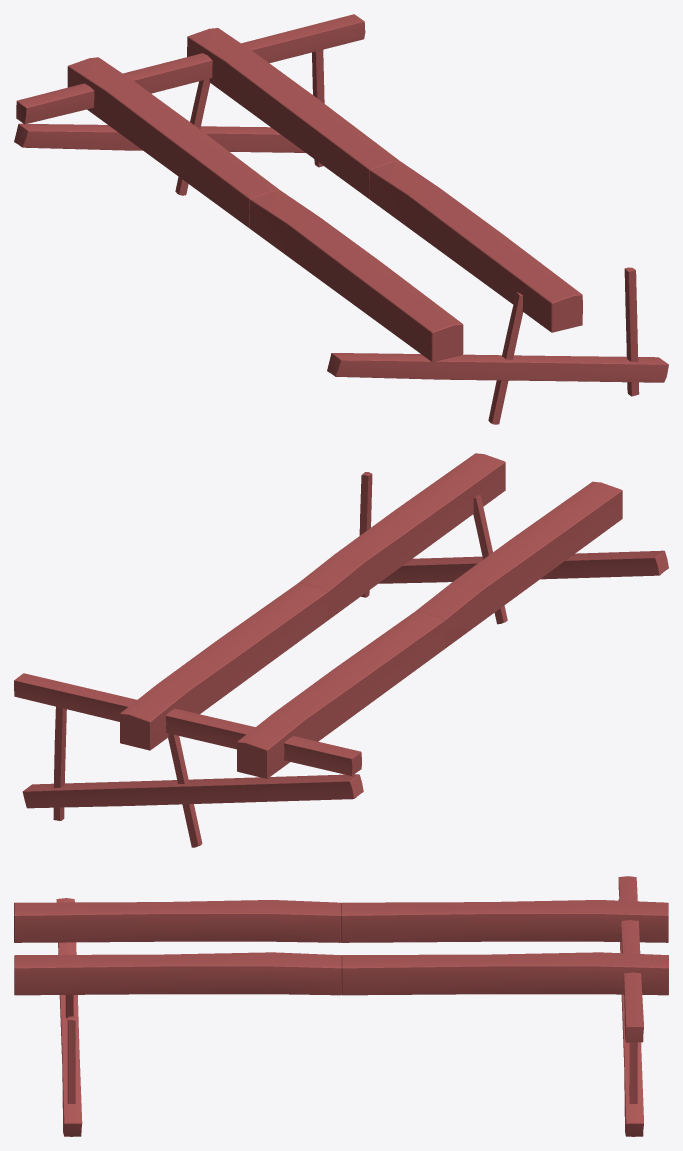
The model's file is Beam_Structure_15B_Lod0.fbx.
3 renders of one model, top to bottom at view 1: azimuth 30°, elevation 25°; view 2: azimuth 150°, elevation 25°; view 3: azimuth 270°, elevation 25°, orthographic. The views are drawn at different scales.
Parts seen in each view (by area): view 1: Beam_Structure_15B_Lod0; view 2: Beam_Structure_15B_Lod0; view 3: Beam_Structure_15B_Lod0.
Boxes of the visible parts, left/top/right/bottom form: Beam_Structure_15B_Lod0: left=14, top=14, right=668, bottom=424; Beam_Structure_15B_Lod0: left=14, top=453, right=668, bottom=847; Beam_Structure_15B_Lod0: left=14, top=876, right=668, bottom=1136.
Size of the model in its own units: 329 by 132 by 600.
